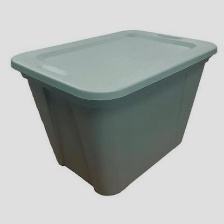plastic_box: (4, 21, 223, 202)
